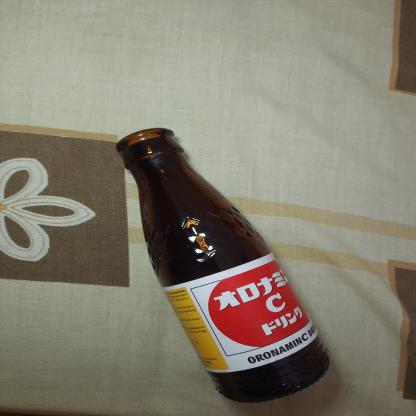keyboard: (107, 121, 342, 406)
